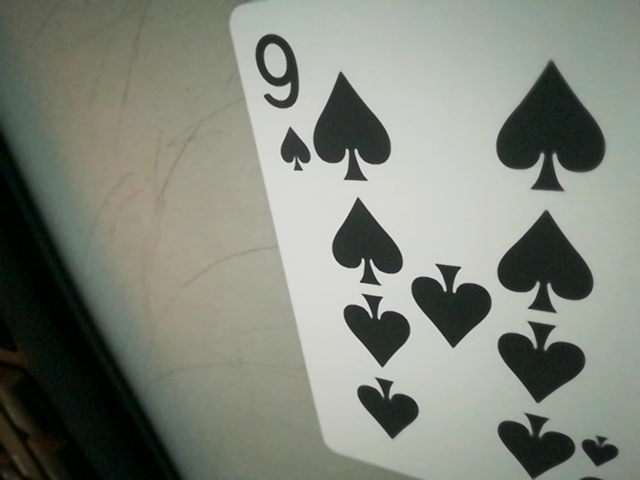ht 9: (245, 21, 320, 186)
